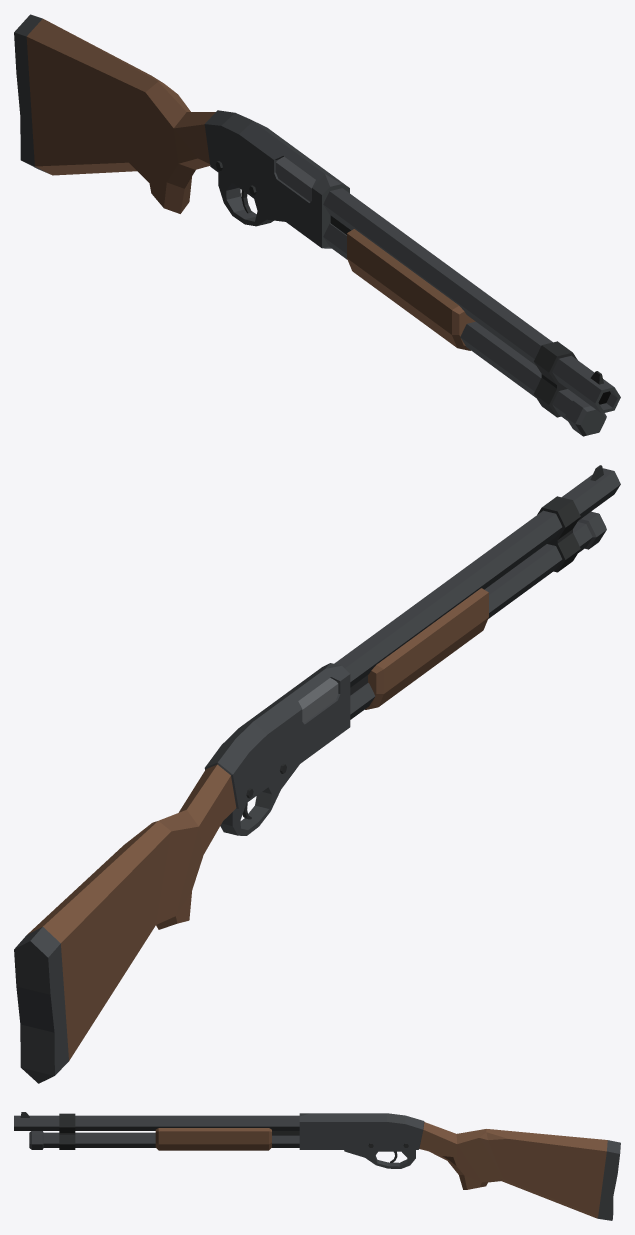
The model's file is Shotgun_01.fbx.
3 views of the same model, one above another, from view 1: azimuth 30°, elevation 25°; view 2: azimuth 150°, elevation 25°; view 3: azimuth 270°, elevation 25° (orthographic). The views are drawn at different scales.
Visible parts, largest first — view 1: Shotgun_01, Shotgun_01_Pump, Shotgun_01_Slide; view 2: Shotgun_01, Shotgun_01_Pump, Shotgun_01_Slide; view 3: Shotgun_01, Shotgun_01_Pump.
Part boxes in pixels (<box>): Shotgun_01: <box>14,14,620,436</box>; Shotgun_01_Pump: <box>347,229,475,350</box>; Shotgun_01_Slide: <box>276,156,315,201</box>; Shotgun_01: <box>14,465,620,1083</box>; Shotgun_01_Pump: <box>365,588,488,709</box>; Shotgun_01_Slide: <box>298,678,338,723</box>; Shotgun_01: <box>14,1112,620,1220</box>; Shotgun_01_Pump: <box>155,1128,271,1150</box>.
Size of the model in its own units: 0.0439 by 0.2345 by 1.19.
